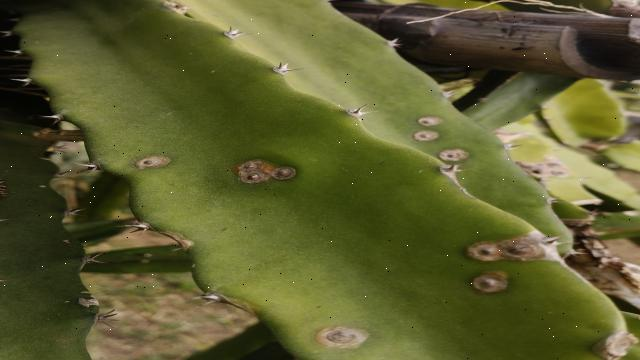stemcanker: (305, 317, 378, 355), (467, 269, 515, 299), (130, 149, 176, 171), (436, 145, 474, 164), (413, 111, 446, 129), (411, 130, 441, 143)
